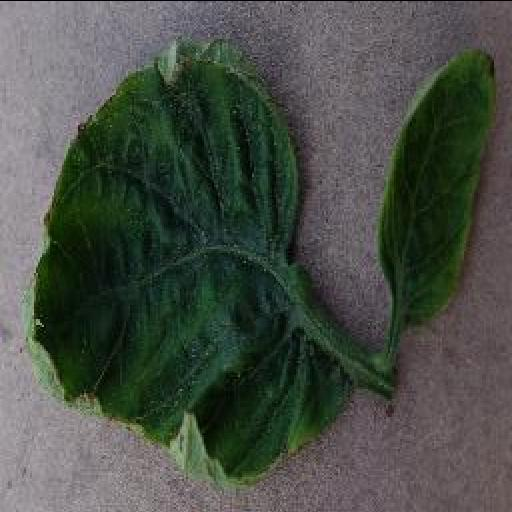disease_tomato: (18, 34, 354, 482), (374, 49, 498, 323)
